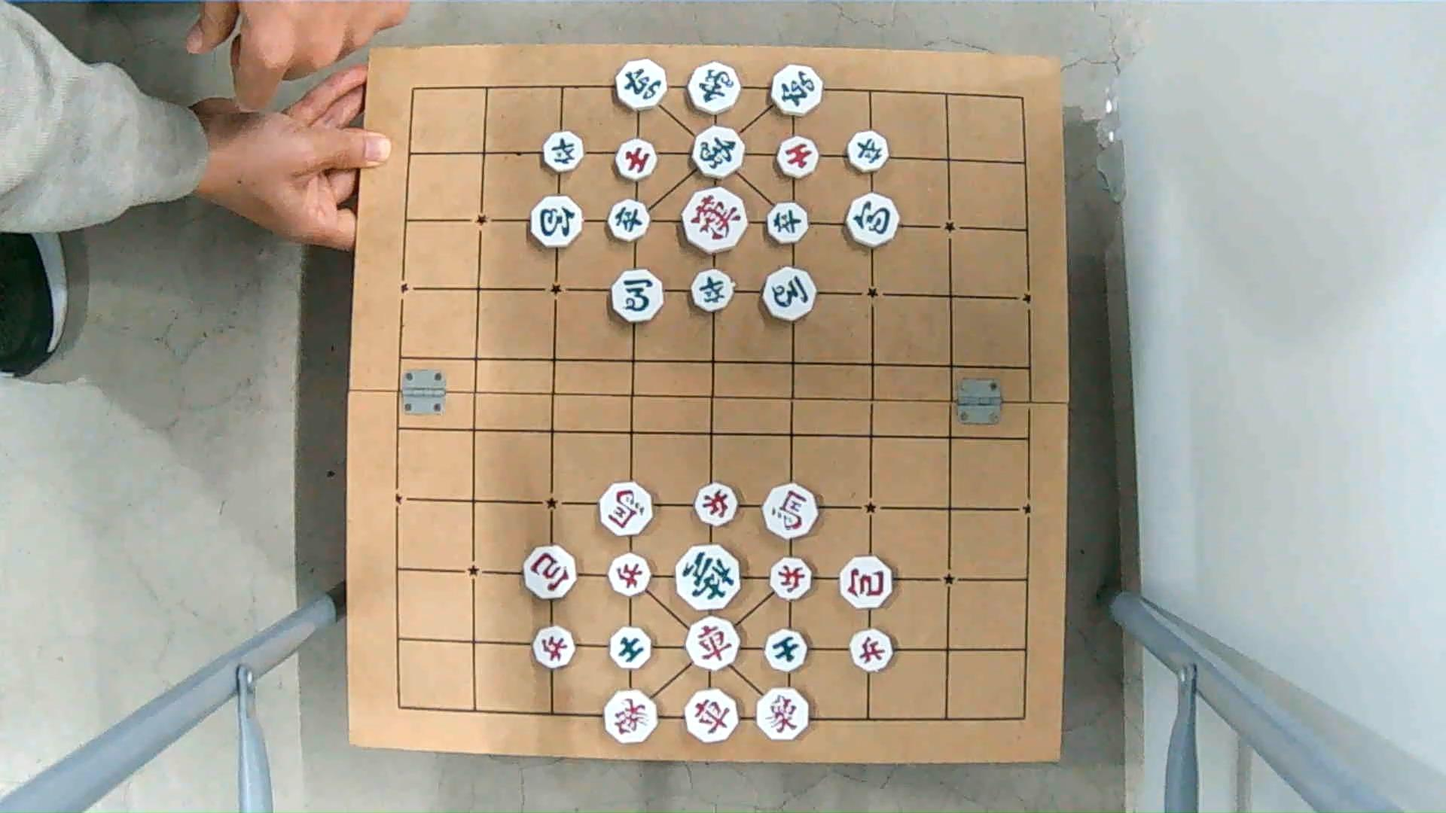cha_green: (768, 65, 826, 115), (613, 61, 671, 110)
cha_red: (683, 690, 739, 741), (685, 620, 743, 668)
jol_green: (688, 270, 737, 309), (764, 202, 808, 242), (846, 132, 892, 170), (541, 132, 587, 170), (612, 198, 651, 239)
jol_red: (767, 560, 816, 599), (694, 483, 737, 527), (609, 555, 652, 598), (529, 629, 577, 667), (843, 632, 891, 668)
ma_green: (759, 270, 820, 319), (606, 271, 664, 321)
ma_red: (596, 483, 655, 537), (762, 486, 822, 539)
po_green: (527, 199, 586, 248), (845, 196, 902, 246)
po_red: (835, 556, 896, 607), (519, 548, 578, 596)
sa_green: (761, 630, 811, 668), (608, 629, 654, 668)
sa_red: (615, 143, 662, 181), (776, 139, 823, 176)
sang_green: (687, 129, 747, 177), (686, 65, 743, 113)
sang_red: (599, 694, 660, 742), (753, 690, 812, 738)
wang_green: (676, 549, 745, 606)
wang_red: (682, 190, 749, 250)
